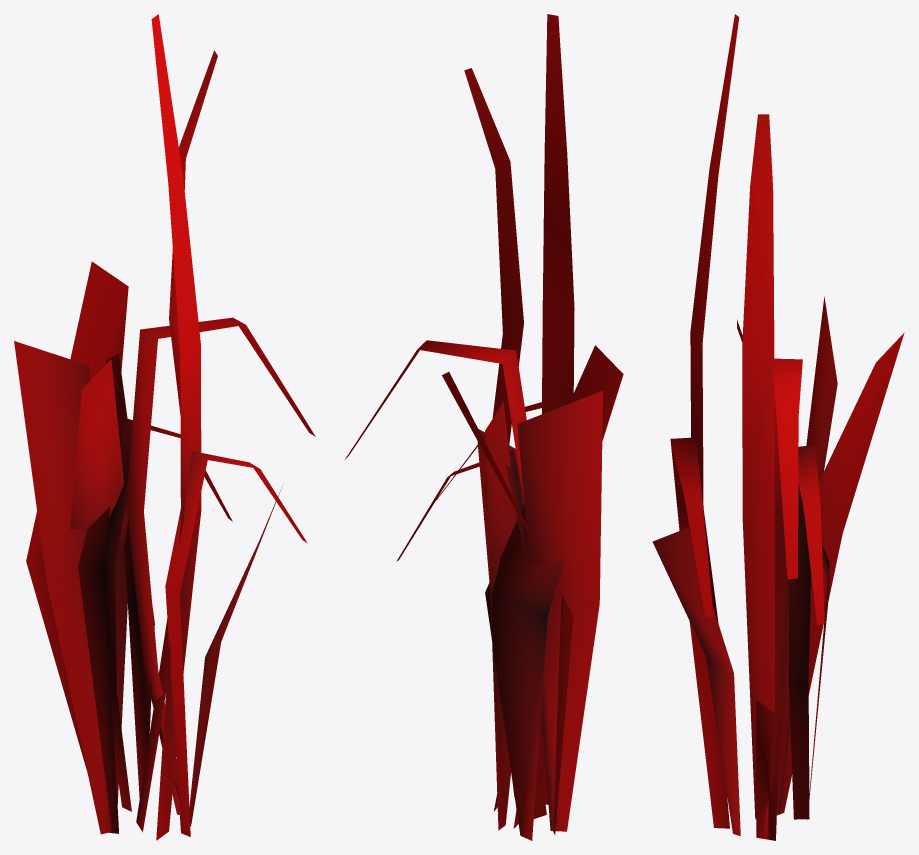
File: SM_RicePlants_1.fbx
The picture shows the model from 3 angles, left to right: view 1: azimuth 30°, elevation 25°; view 2: azimuth 150°, elevation 25°; view 3: azimuth 270°, elevation 25°; orthographic projection. The views are drawn at different scales.
Visible parts, largest first — view 1: SM_RicePlants_1; view 2: SM_RicePlants_1; view 3: SM_RicePlants_1.
Part boxes in pixels (<box>): SM_RicePlants_1: <box>14,14,315,840</box>; SM_RicePlants_1: <box>345,14,623,840</box>; SM_RicePlants_1: <box>652,14,904,840</box>.
Bounding box in the file's own units: 0.2347 × 0.6557 × 0.1848.
